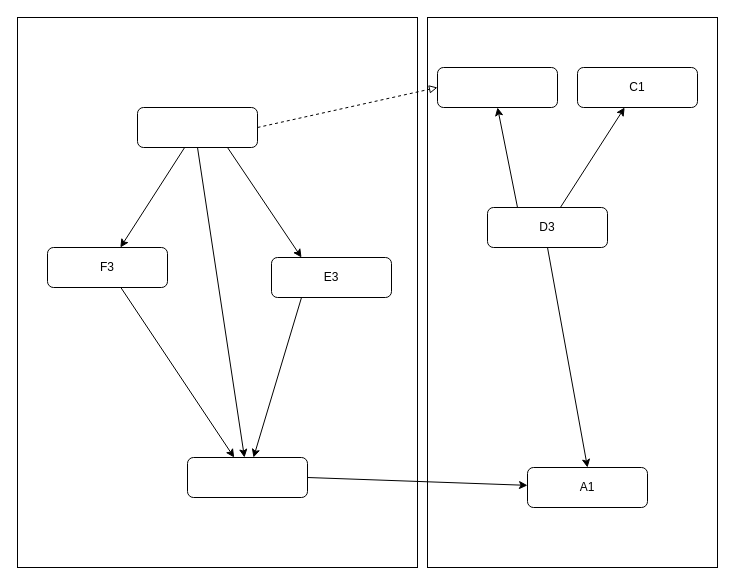
Image size: 735x585. Some labels were removed from this diagram. The box of each missing label's shape, as (x1, y1, x2, y2) in pixels:
B2: (186, 456, 308, 498)
G5: (136, 106, 258, 148)
GI2: (436, 66, 558, 108)
